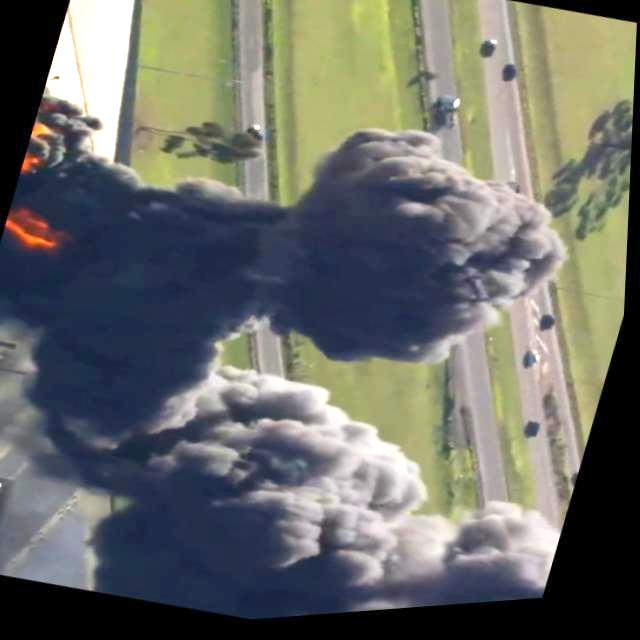fire: (0, 114, 74, 260)
